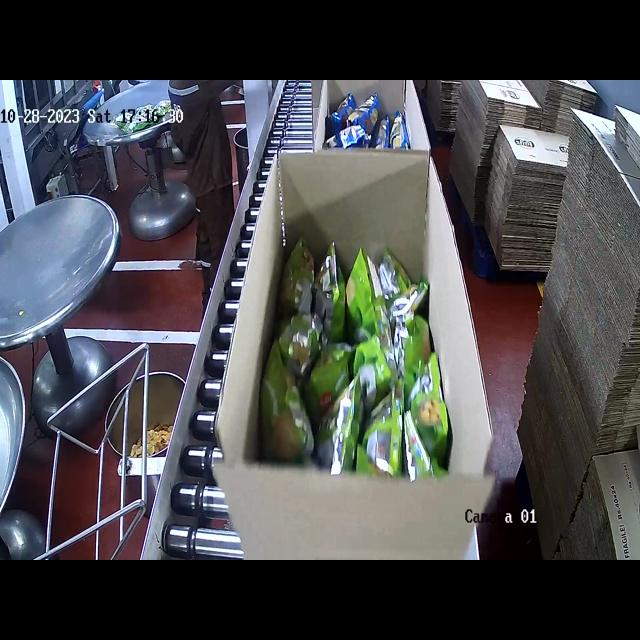paprika: (336, 83, 414, 151)
yogurt: (259, 235, 451, 480)
